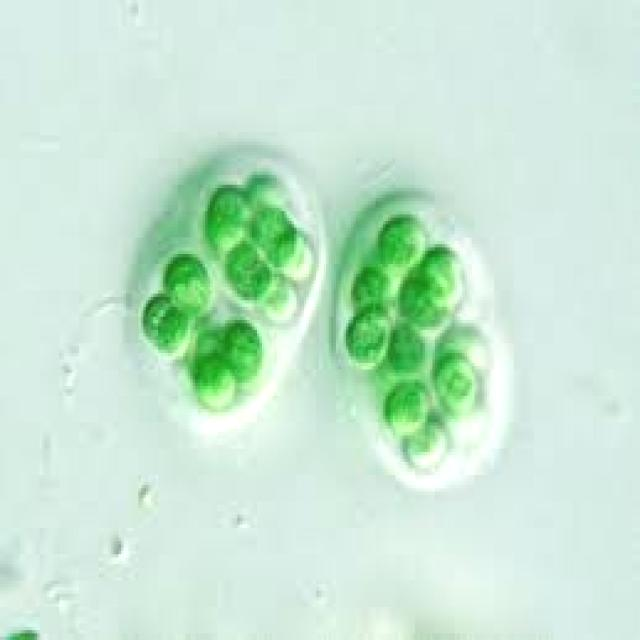Blue Green Algae: (220, 313, 264, 383), (398, 274, 450, 333), (341, 307, 393, 366), (225, 241, 274, 303), (163, 251, 213, 310), (252, 208, 299, 270), (438, 350, 480, 419), (205, 184, 247, 250), (378, 211, 430, 264), (192, 353, 240, 409), (351, 264, 398, 317), (383, 380, 430, 432), (383, 316, 428, 369), (428, 244, 464, 300), (156, 303, 190, 353), (141, 290, 168, 340)
